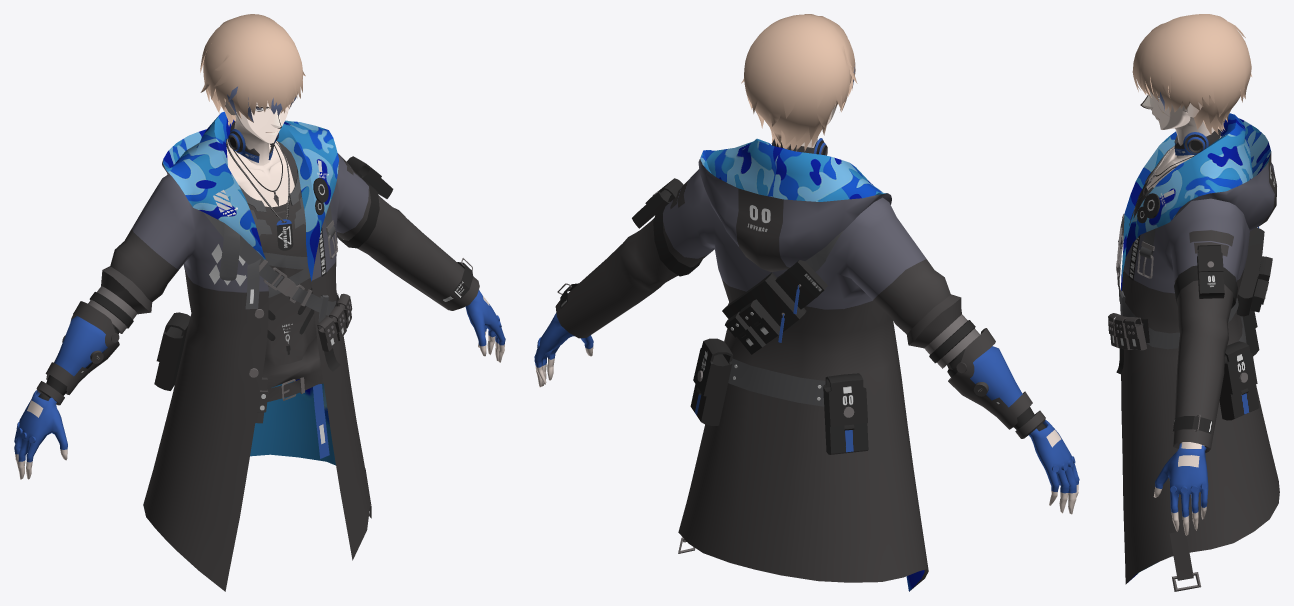
Rendered from R3LiangMd010021.fbx.
3 renders of one model, left to right at view 1: azimuth 30°, elevation 25°; view 2: azimuth 150°, elevation 25°; view 3: azimuth 270°, elevation 25°, orthographic. The views are drawn at different scales.
Visible parts, largest first — view 1: r3, shoubi; view 2: r3, shoubi; view 3: r3, shoubi.
Boxes of the visible parts, bbox=[...] form: r3: bbox=[15, 14, 504, 591]; shoubi: bbox=[14, 286, 505, 462]; r3: bbox=[535, 14, 1078, 591]; shoubi: bbox=[534, 313, 1079, 493]; r3: bbox=[1108, 14, 1279, 591]; shoubi: bbox=[1155, 443, 1208, 517].
Size of the model in its own units: 41.07 by 42.68 by 12.43.
